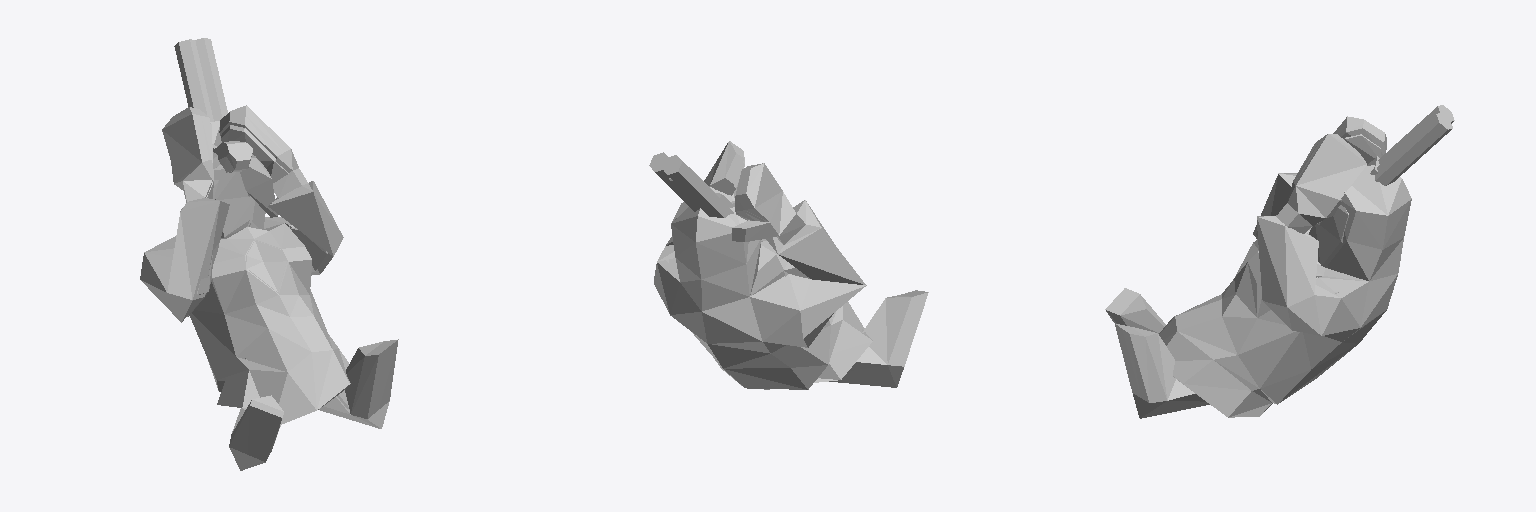
Rendered from Noita_000007.obj.
The picture shows the model from 3 angles: view 1: azimuth 30°, elevation 25°; view 2: azimuth 150°, elevation 25°; view 3: azimuth 270°, elevation 25°; orthographic projection.
Parts seen in each view (by area): view 1: Noita_Plane, Shotgun_Plane.002; view 2: Noita_Plane, Shotgun_Plane.002; view 3: Noita_Plane, Shotgun_Plane.002.
Boxes of the visible parts, <box> form: Noita_Plane: <box>140,105,398,470</box>; Shotgun_Plane.002: <box>174,38,252,172</box>; Noita_Plane: <box>654,141,928,389</box>; Shotgun_Plane.002: <box>649,152,738,217</box>; Noita_Plane: <box>1105,116,1411,418</box>; Shotgun_Plane.002: <box>1367,105,1454,185</box>.
Bounding box in the file's own units: 2.42 × 3.84 × 3.9.